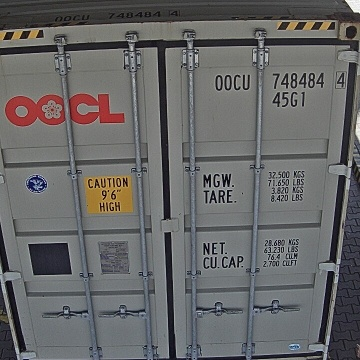serial_id: (215, 71, 346, 89)
